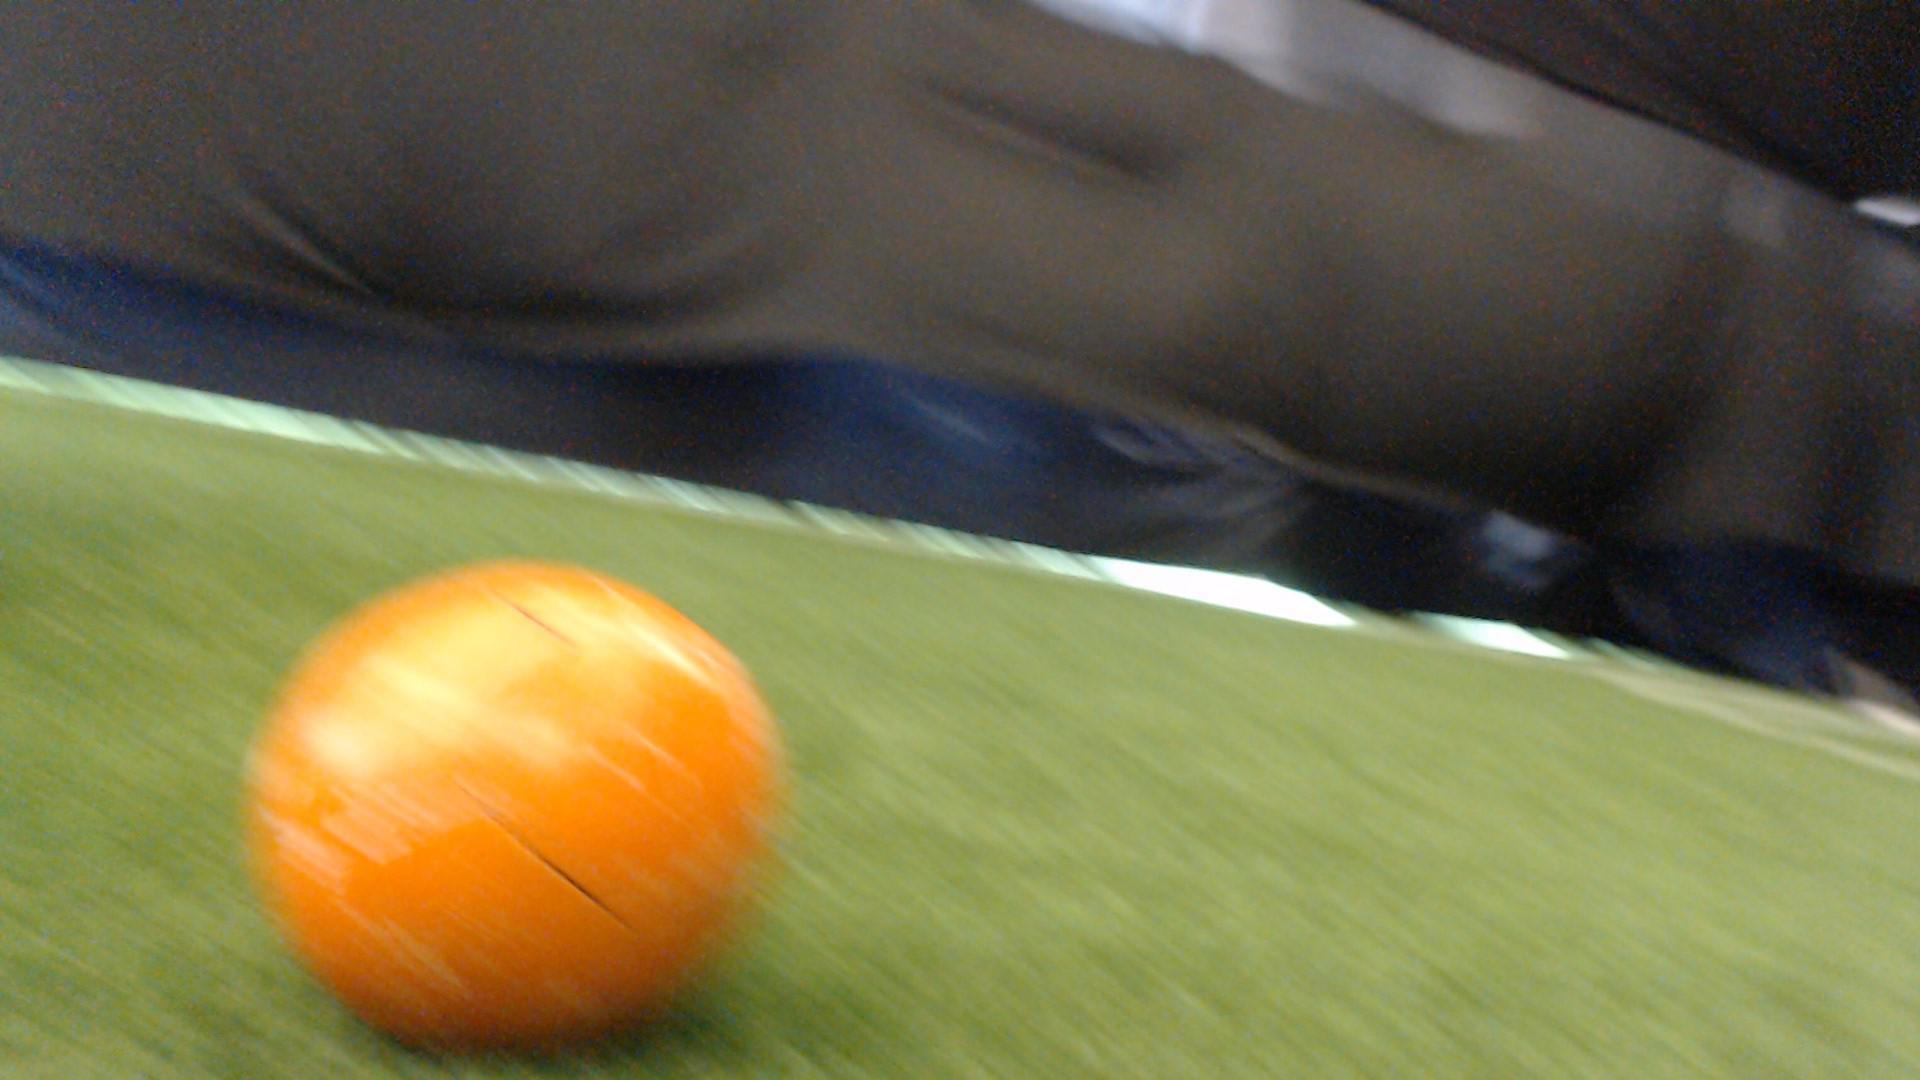bola: (222, 555, 800, 1079)
